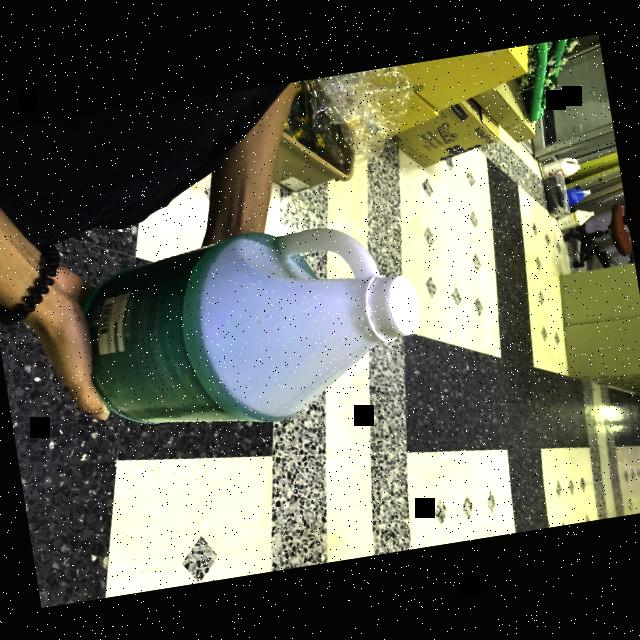chemical_plastic_gallon: (73, 205, 434, 444)
